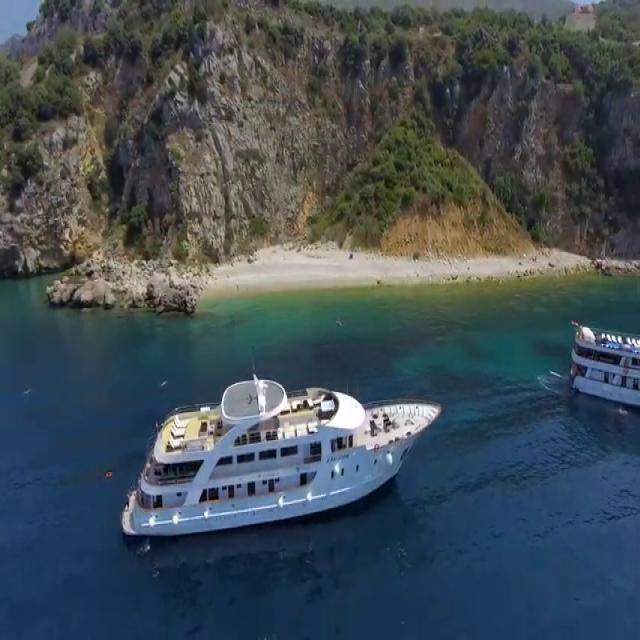passenger ship: (122, 375, 441, 537), (571, 306, 640, 399)
